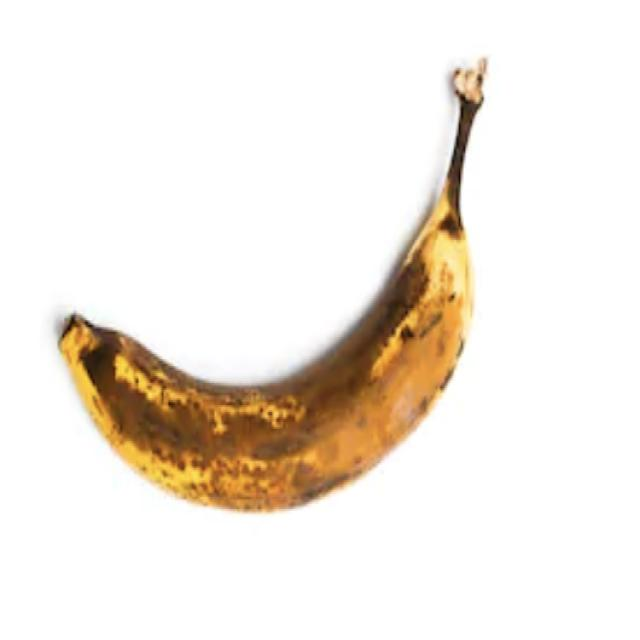rotten-banana: (57, 53, 489, 514)
